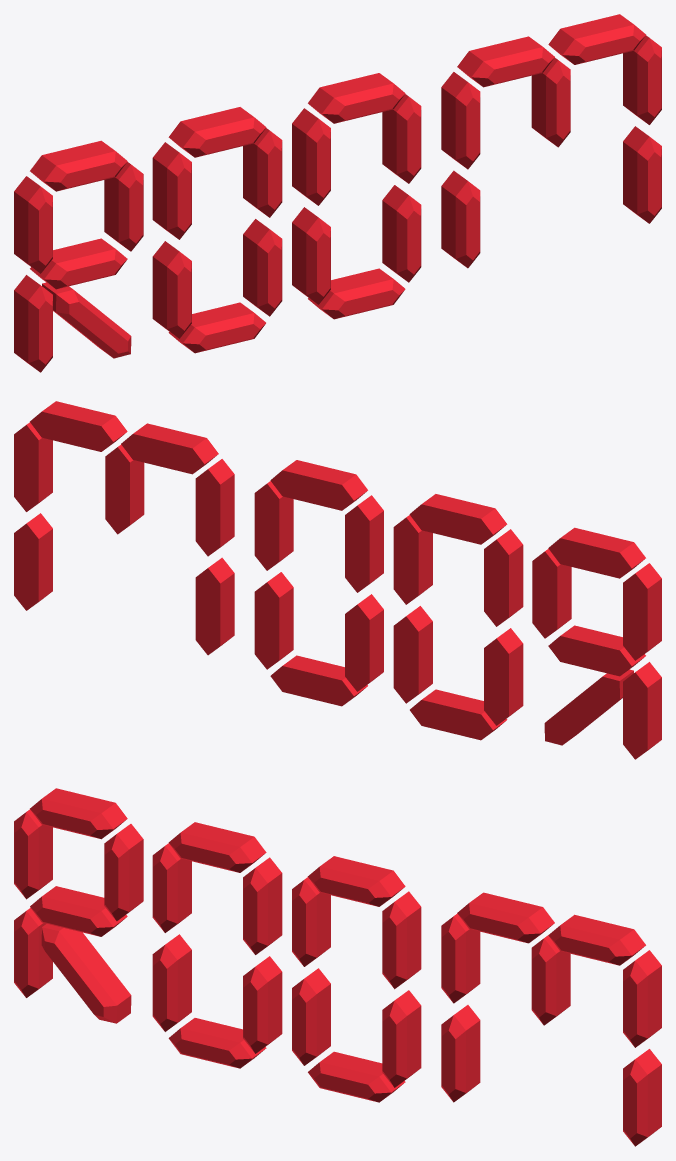
Rendered from RoomLetters.fbx.
3 renders of one model, top to bottom at view 1: azimuth 30°, elevation 25°; view 2: azimuth 150°, elevation 25°; view 3: azimuth 330°, elevation 25°, orthographic.
Parts seen in each view (by area): view 1: Segment.003, SegmentLeftTopOn.003, SegmentLeftBottomOn.003, Segment.002, SegmentRightBottomOn.003, SegmentRightBottomOn.001, SegmentTopOn.001, SegmentTopOn.004, Segment.008, SegmentLeftBottomOn.001, SegmentLeftBottomOn.004, SegmentLeftTopOn.001 (+13 smaller); view 2: Segment.003, SegmentLeftTopOn.003, SegmentLeftBottomOn.003, Segment.002, SegmentRightBottomOn.003, SegmentRightBottomOn.001, SegmentTopOn.001, SegmentTopOn.004, Segment.008, SegmentLeftBottomOn.001, SegmentLeftBottomOn.004, SegmentLeftTopOn.001 (+13 smaller); view 3: Slash Segment, SegmentRightTopOn.001, SegmentLeftBottomOn.003, SegmentRightBottomOn.003, SegmentRightTopOn.004, Segment.002, SegmentRightBottomOn.001, SegmentRightTopOn.003, SegmentTopOn.003, Segment.008, SegmentTopOn.001, Segment (+13 smaller).
Boxes of the visible parts, x1,y1,x2,y2 form: Segment.003: (441, 72, 480, 169); SegmentLeftTopOn.003: (152, 142, 191, 239); SegmentLeftBottomOn.003: (152, 241, 191, 338); Segment.002: (441, 170, 480, 268); SegmentRightBottomOn.003: (382, 185, 421, 282); SegmentRightBottomOn.001: (243, 219, 282, 316); SegmentTopOn.001: (30, 140, 127, 191); SegmentTopOn.004: (308, 73, 405, 123); Segment.008: (548, 14, 645, 64); SegmentLeftBottomOn.001: (14, 275, 52, 372); SegmentLeftBottomOn.004: (292, 207, 330, 304); SegmentLeftTopOn.001: (14, 176, 52, 273); Segment.003: (195, 459, 234, 556); SegmentLeftTopOn.003: (484, 529, 523, 626); SegmentLeftBottomOn.003: (484, 628, 523, 725); Segment.002: (195, 557, 234, 655); SegmentRightBottomOn.003: (254, 572, 293, 669); SegmentRightBottomOn.001: (393, 606, 432, 703); SegmentTopOn.001: (548, 527, 645, 578); SegmentTopOn.004: (270, 460, 367, 510); Segment.008: (30, 401, 127, 451); SegmentLeftBottomOn.001: (623, 662, 661, 759); SegmentLeftBottomOn.004: (345, 594, 383, 691); SegmentLeftTopOn.001: (623, 563, 661, 660); Slash Segment: (41, 924, 131, 1023); SegmentRightTopOn.001: (104, 824, 143, 921); SegmentLeftBottomOn.003: (152, 934, 191, 1031); SegmentRightBottomOn.003: (382, 990, 421, 1087); SegmentRightTopOn.004: (382, 891, 421, 989); Segment.002: (441, 1005, 480, 1102); SegmentRightBottomOn.001: (243, 956, 282, 1053); SegmentRightTopOn.003: (243, 857, 282, 954); SegmentTopOn.003: (168, 822, 266, 872); Segment.008: (548, 914, 645, 965); SegmentTopOn.001: (30, 788, 127, 839); Segment: (457, 892, 554, 943).
Bounding box in the file's own units: 509 × 26.93 × 170.
